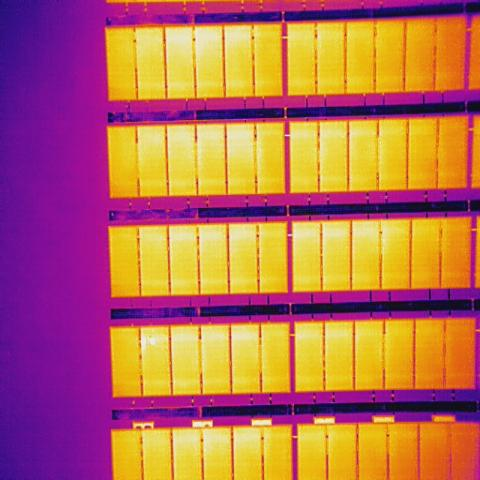fault: (140, 334, 147, 354), (148, 336, 157, 348)
